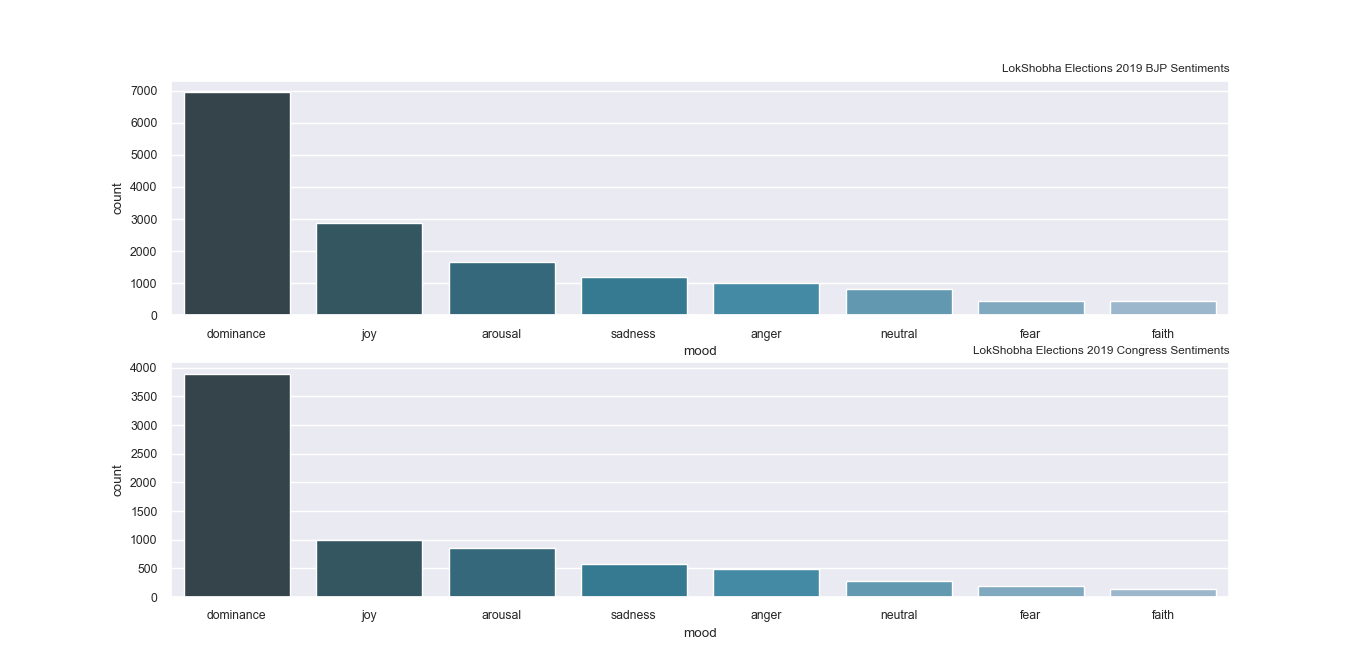

The dashboard page shown, as its layout file describes it:
{"tool":"tableau","page":{"name":"Dashboard 2","canvas":[1000,1000],"units":"permille","ordinal":1},"visuals":[{"type":"worksheet","title":"Sheet 7","mark":"Automatic","rows":["Enrolment Agency"],"cols":["Aadhaar generated"],"box":[40.7,32,376.6,450.2]},{"type":"worksheet","title":"Sheet 8","mark":"Automatic","rows":["Enrolment Agency"],"cols":["Enrolment Rejected"],"box":[568.8,59,402.6,436.8]},{"type":"worksheet","title":"Sheet 9","mark":"Automatic","rows":["District","Gender"],"cols":["Aadhaar generated"],"box":[206.9,534.6,556.7,436.8]}]}

Visuals, with their boxes on the dashboard's canvas, which has no fixed pixel size, in thousandths of its width and height (x1, y1, x2, y2). These are canvas units, not pixel positions in the 1366x671 screenshot, which may show the page scaled, cropped or inside an application window:
"Sheet 7" worksheet: [41,32,417,482]
"Sheet 8" worksheet: [569,59,971,496]
"Sheet 9" worksheet: [207,535,764,971]
